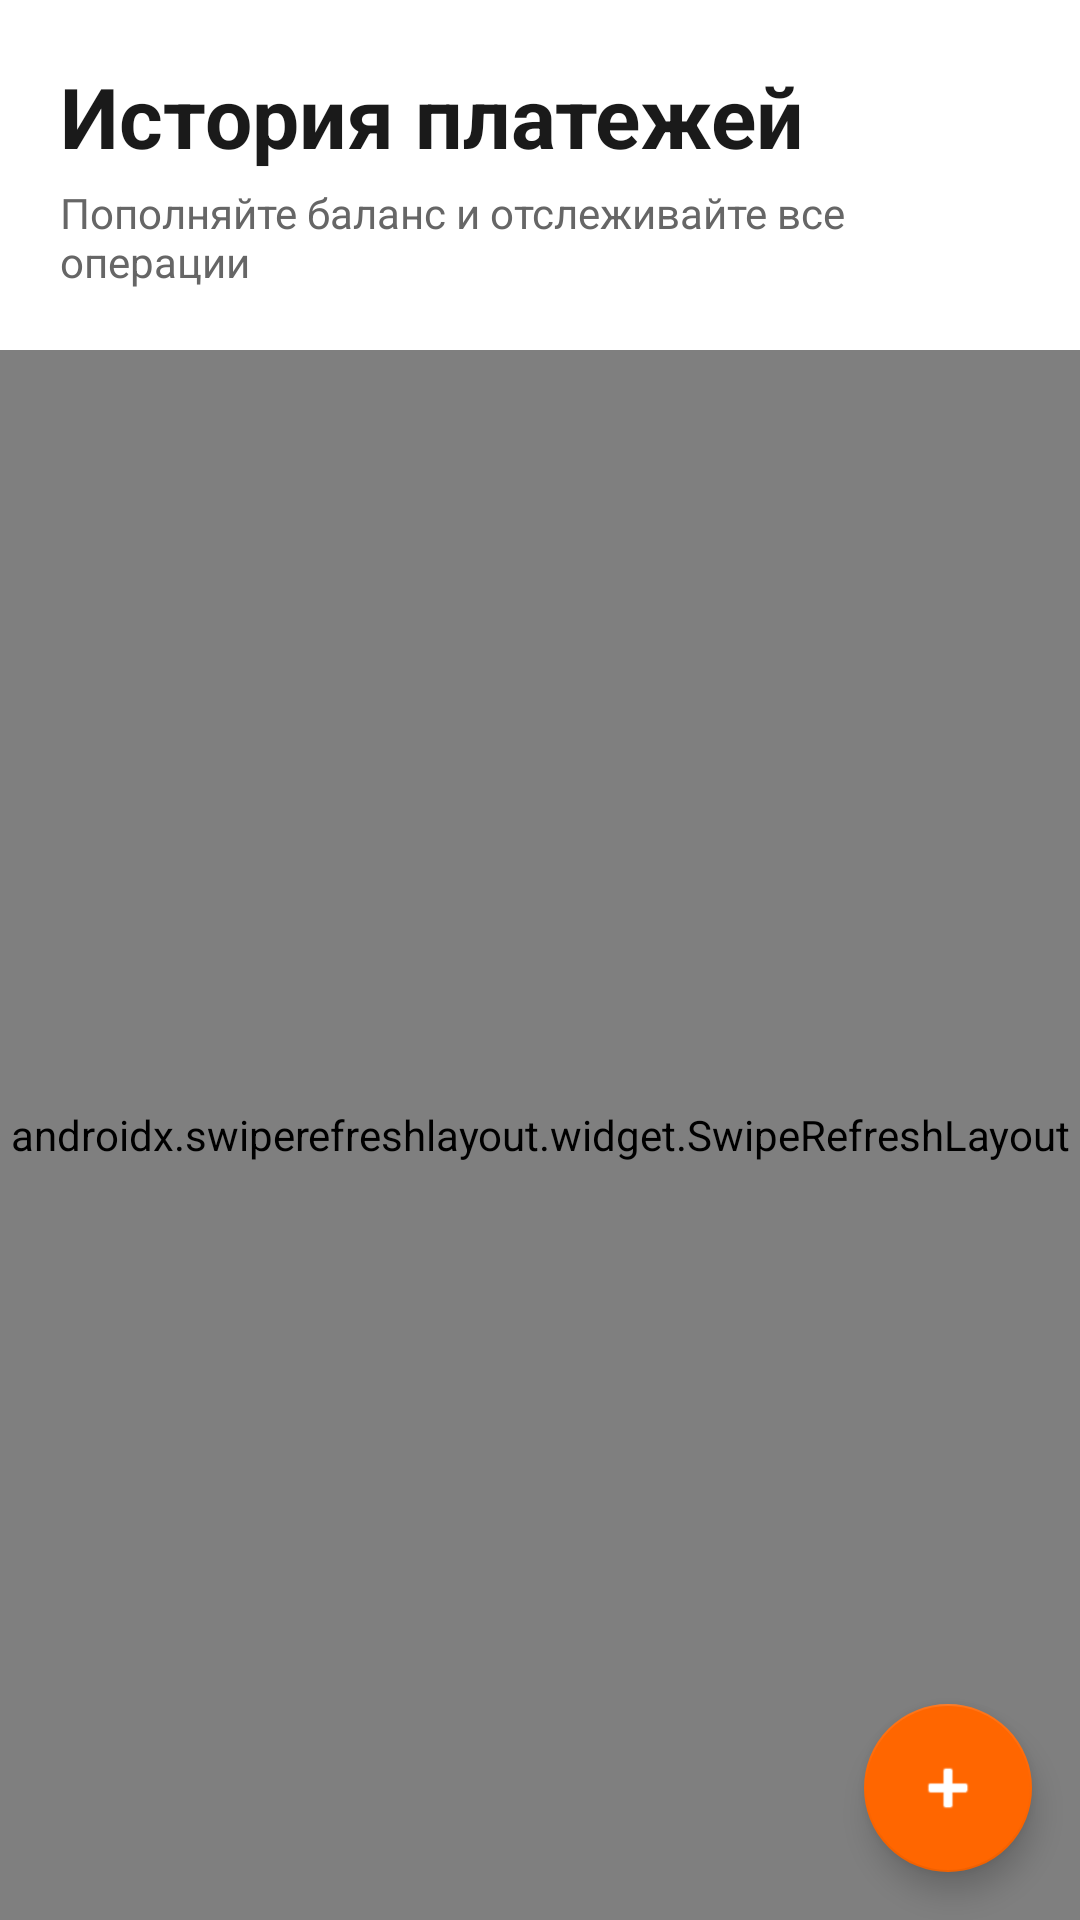

Point at icon controls on the screen. Image size 1080px×1920px, points as [x,y].
Пополнить баланс: [948,1788]
